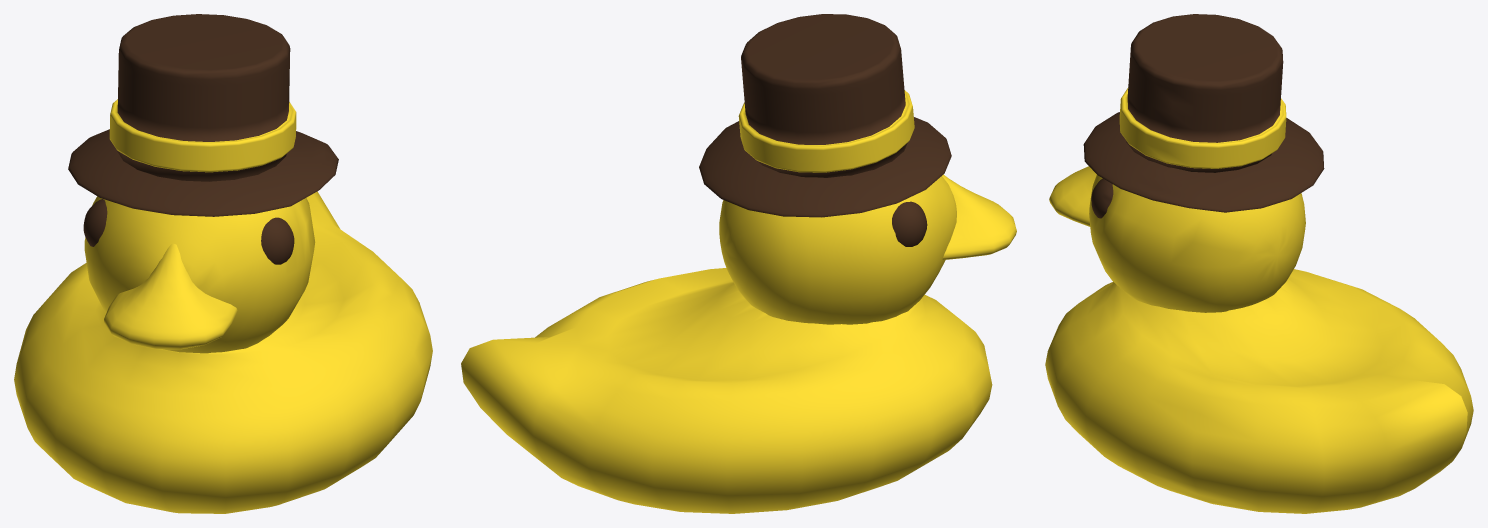
Rendered from ToyObject_153.fbx.
3 renders of one model, left to right at view 1: azimuth 30°, elevation 25°; view 2: azimuth 150°, elevation 25°; view 3: azimuth 270°, elevation 25°, orthographic. The views are drawn at different scales.
Parts seen in each view (by area): view 1: Object.035; view 2: Object.035; view 3: Object.035.
Part boxes in pixels (x1,y1,x2,y2): Object.035: [14, 14, 432, 513]; Object.035: [461, 14, 1016, 513]; Object.035: [1045, 14, 1473, 513].
Size of the model in its own units: 0.157 by 0.1695 by 0.1593.
